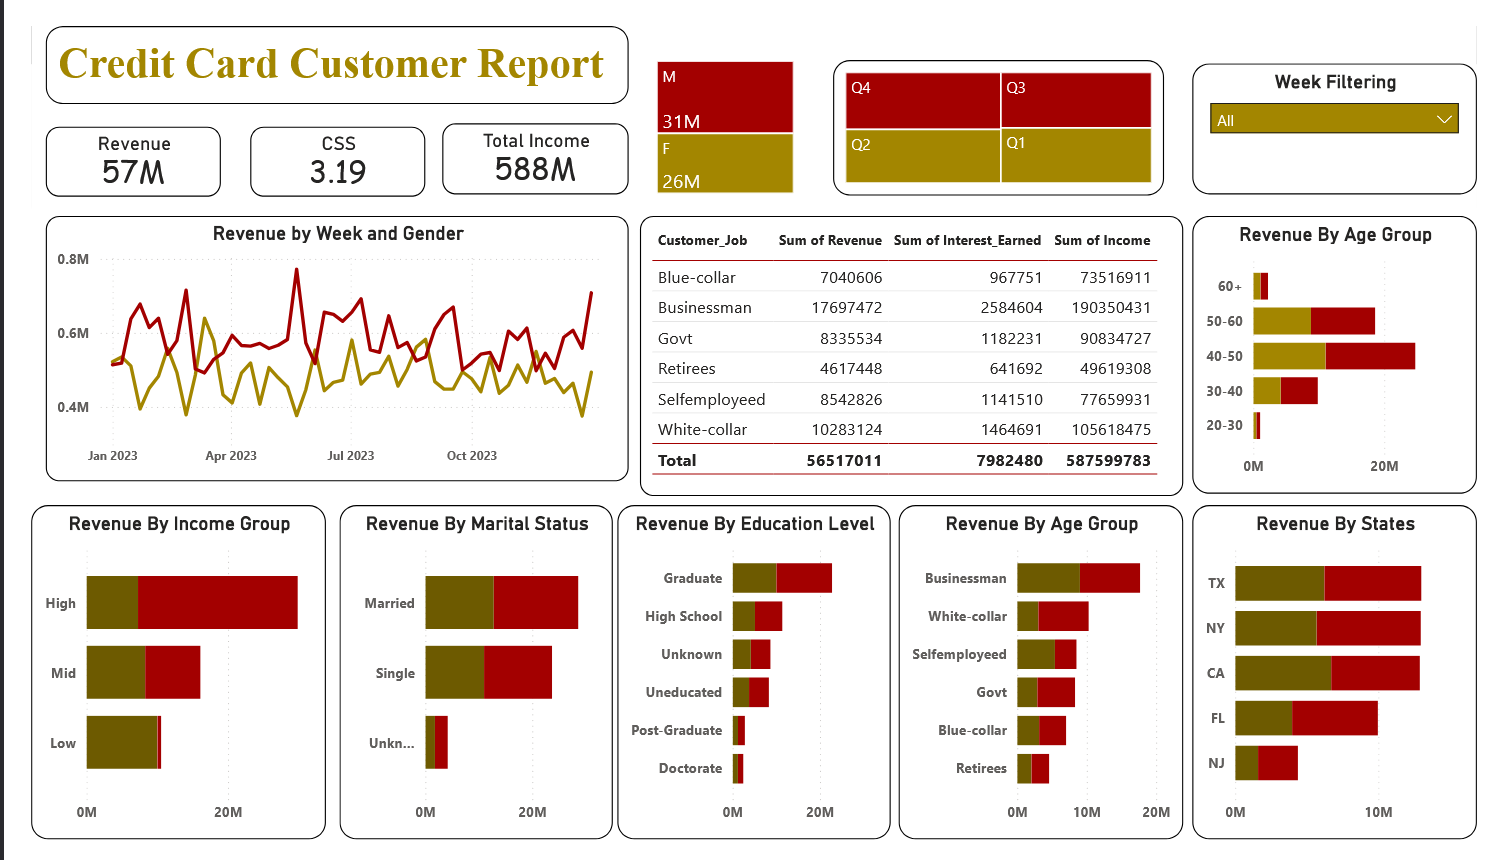

Layout of this report page (visuals, bound fields, positions):
{"tool":"powerbi","page":{"name":"Page 3","canvas":[1280,720],"ordinal":1},"visuals":[{"type":"barChart","title":"Revenue By Income Group","fields":{"Y":["Sum(ccdb credit_card.Revenue)"],"Category":["ccdb customer.IncomeGroup"],"Series":["ccdb customer.Gender"]},"box":[0,423.8,261.2,296.2],"z":0},{"type":"tableEx","fields":{"Values":["ccdb customer.Customer_Job","Sum(ccdb credit_card.Revenue)","Sum(ccdb credit_card.Interest_Earned)","Sum(ccdb customer.Income)"]},"box":[538.8,167.5,481.2,248.8],"z":1000},{"type":"card","title":"Revenue","fields":{"Values":["Sum(ccdb credit_card.Revenue)"]},"box":[12.5,88.8,155,62.5],"z":2000},{"type":"card","title":"Total Income","fields":{"Values":["Sum(ccdb customer.Income)"]},"box":[363.8,86.2,165,62.5],"z":4000},{"type":"textbox","box":[12.5,0,516.2,68.8],"z":5000},{"type":"slicer","title":"Week Filtering","fields":{"Values":["ccdb credit_card.Week_Start_Date"]},"box":[1027.5,32.5,252.5,116.2],"z":6000},{"type":"treemap","fields":{"Group":["ccdb credit_card.Qtr"],"Values":["CountNonNull(ccdb credit_card.Client_num)"]},"box":[710,30,292.5,120],"z":7000},{"type":"card","title":"CSS","fields":{"Values":["Avg(ccdb customer.Cust_Satisfaction_Score)"]},"box":[193.8,88.8,155,62.5],"z":8000},{"type":"lineChart","title":"Revenue by Week and Gender","fields":{"Y":["Sum(ccdb credit_card.Revenue)"],"Series":["ccdb customer.Gender"],"Category":["ccdb credit_card.Week_Start_Date"]},"box":[12.5,167.5,516.2,235],"z":9000},{"type":"treemap","fields":{"Group":["ccdb customer.Gender"],"Values":["Sum(ccdb credit_card.Revenue)"]},"box":[548.8,26.2,131.2,126.2],"z":10000},{"type":"barChart","title":"Revenue By Age Group","fields":{"Y":["Sum(ccdb credit_card.Revenue)"],"Category":["ccdb customer.AgeGroup"],"Series":["ccdb customer.Gender"]},"box":[1027.5,167.5,252.5,246.2],"z":11000},{"type":"barChart","title":"Revenue By Age Group","fields":{"Y":["Sum(ccdb credit_card.Revenue)"],"Category":["ccdb customer.Customer_Job"],"Series":["ccdb customer.Gender"]},"box":[767.5,423.8,252.5,296.2],"z":12000},{"type":"barChart","title":"Revenue By Education Level","fields":{"Y":["Sum(ccdb credit_card.Revenue)"],"Category":["ccdb customer.Education_Level"],"Series":["ccdb customer.Gender"]},"box":[518.8,423.8,242.5,296.2],"z":13000},{"type":"barChart","title":"Revenue By States","fields":{"Y":["Sum(ccdb credit_card.Revenue)"],"Category":["ccdb customer.state_cd"],"Series":["ccdb customer.Gender"]},"box":[1027.5,423.8,252.5,296.2],"z":14000},{"type":"barChart","title":"Revenue By Marital Status","fields":{"Y":["Sum(ccdb credit_card.Revenue)"],"Category":["ccdb customer.Marital_Status"],"Series":["ccdb customer.Gender"]},"box":[272.5,423.8,242.5,296.2],"z":15000}]}

Visuals, with their boxes in screenshot pixels (x1, y1, x2, y2), scaled from the page's 1280x720 canvas onto the 1502x860 screenshot:
"Revenue By Income Group" barChart: bbox=[0, 506, 307, 859]
tableEx - ccdb customer.Customer_Job x Sum(ccdb credit_card.Revenue): bbox=[632, 200, 1197, 497]
"Revenue" card: bbox=[15, 106, 197, 181]
"Total Income" card: bbox=[427, 103, 621, 178]
textbox: bbox=[15, 0, 620, 82]
"Week Filtering" slicer: bbox=[1206, 39, 1501, 178]
treemap - ccdb credit_card.Qtr x CountNonNull(ccdb credit_card.Client_num): bbox=[833, 36, 1176, 179]
"CSS" card: bbox=[227, 106, 409, 181]
"Revenue by Week and Gender" lineChart: bbox=[15, 200, 620, 481]
treemap - ccdb customer.Gender x Sum(ccdb credit_card.Revenue): bbox=[644, 31, 798, 182]
"Revenue By Age Group" barChart: bbox=[1206, 200, 1501, 494]
"Revenue By Age Group" barChart: bbox=[901, 506, 1197, 859]
"Revenue By Education Level" barChart: bbox=[609, 506, 893, 859]
"Revenue By States" barChart: bbox=[1206, 506, 1501, 859]
"Revenue By Marital Status" barChart: bbox=[320, 506, 604, 859]
